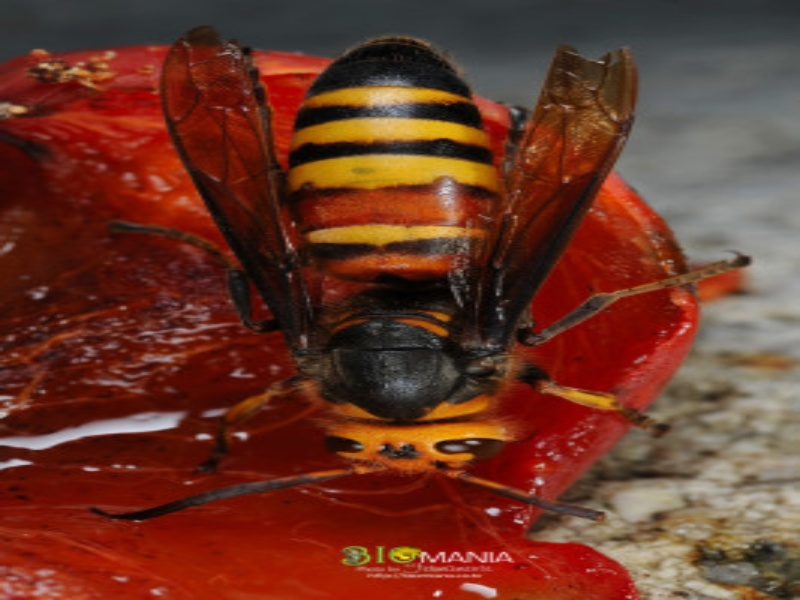asian_giant_hornet: (205, 32, 571, 495)
